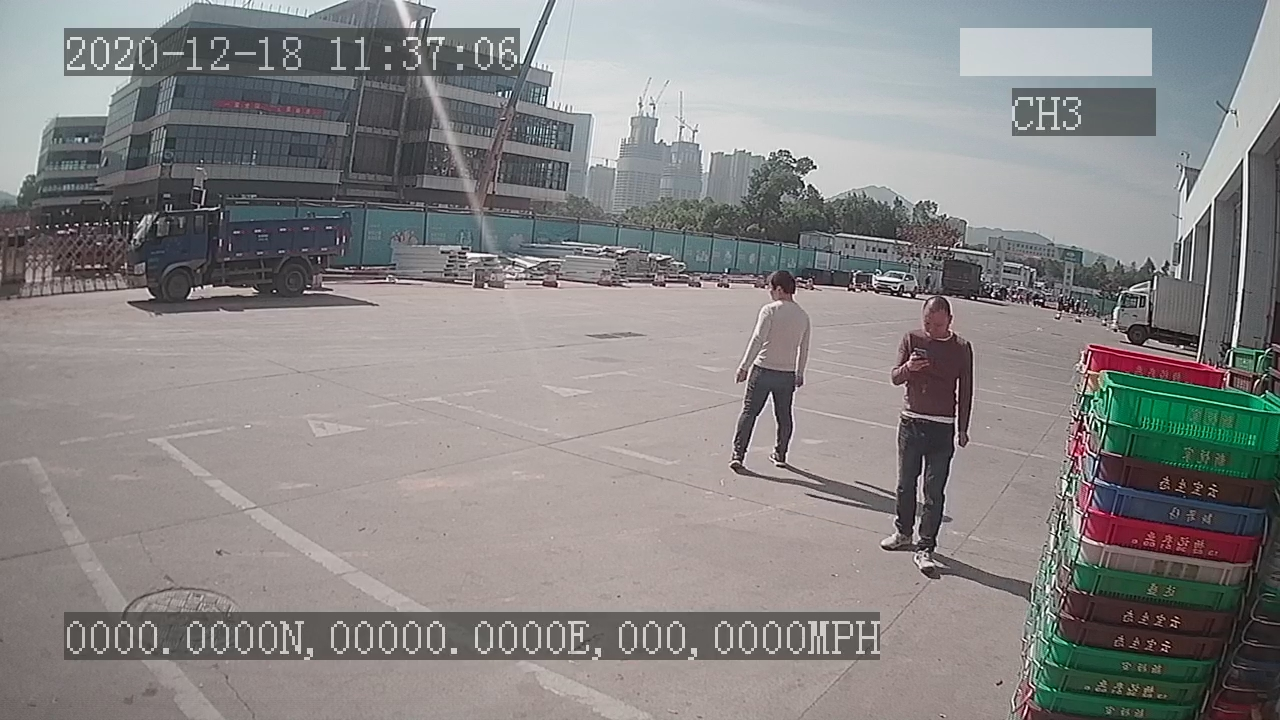person: (874, 297, 986, 573), (723, 266, 814, 479)
